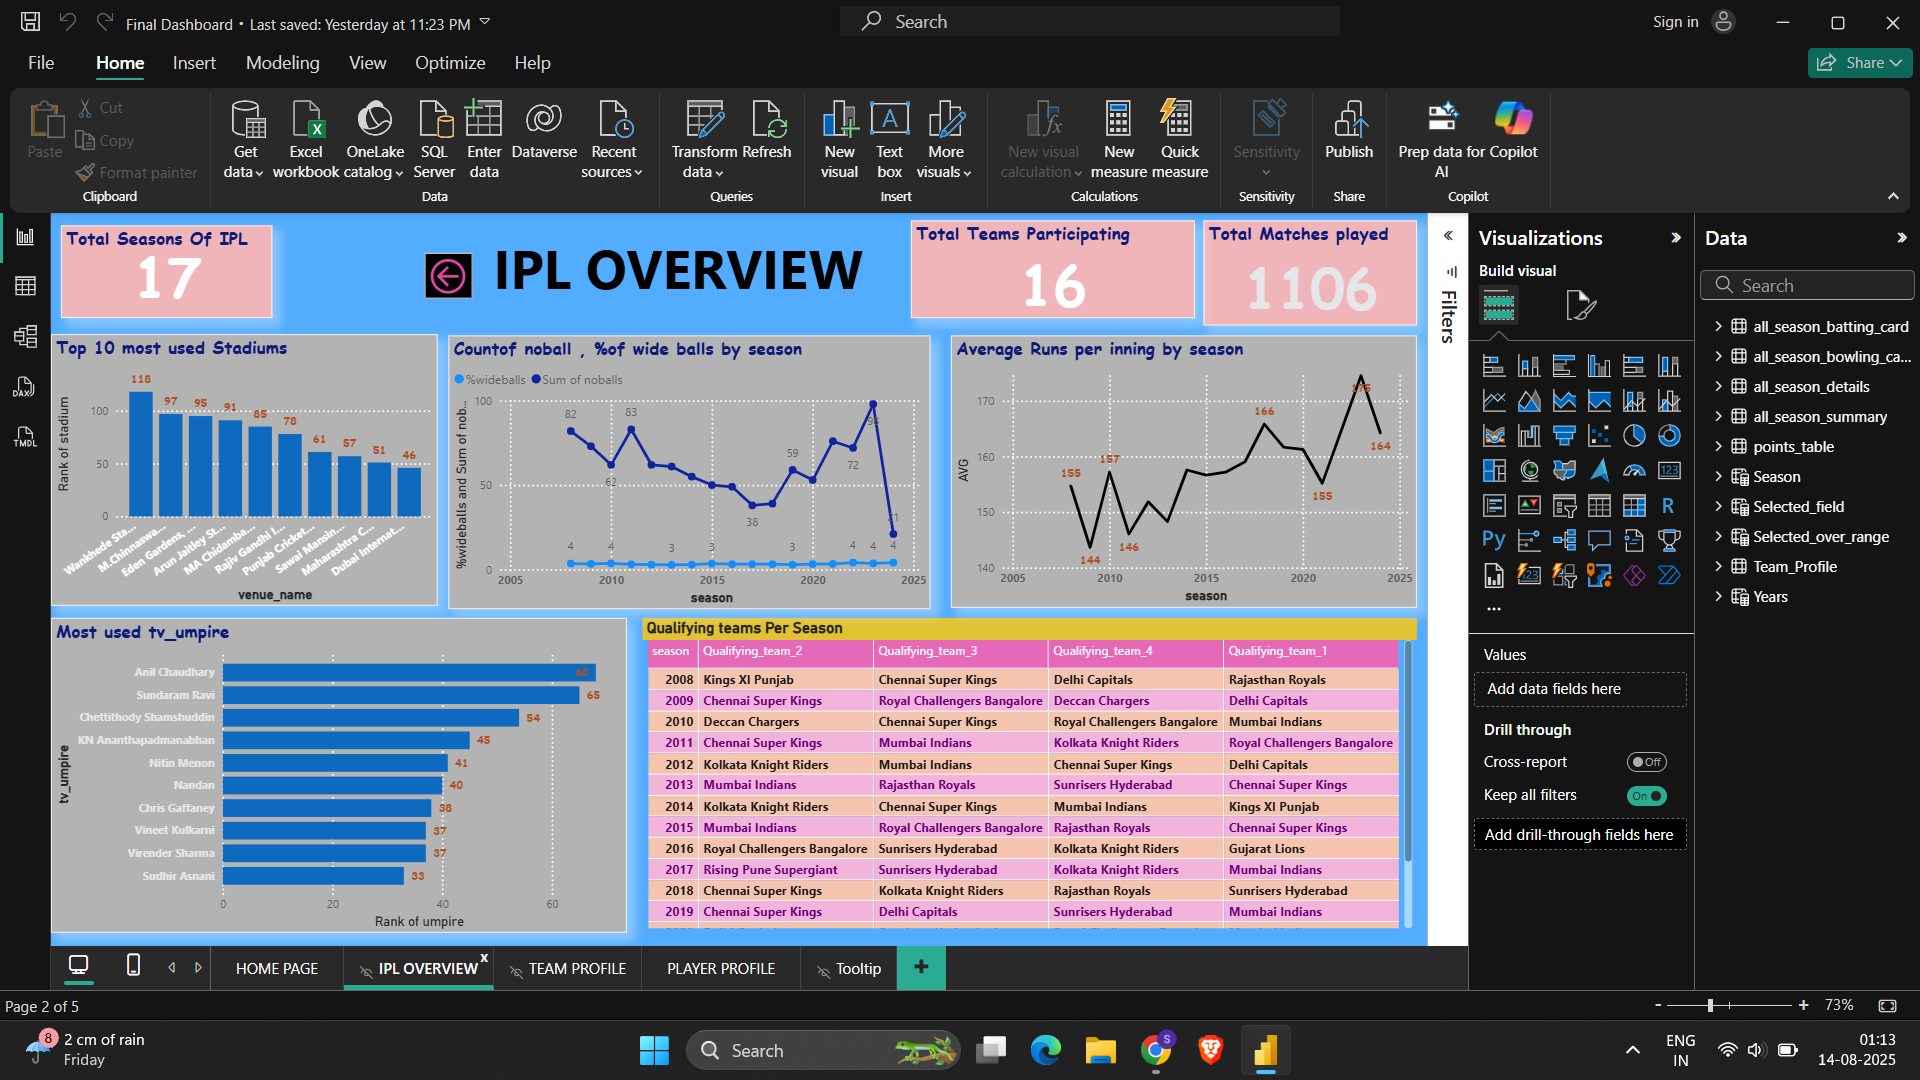

The dashboard page shown, as its layout file describes it:
{"tool":"powerbi","page":{"name":"IPL OVERVIEW","canvas":[1500,800],"ordinal":1},"visuals":[{"type":"textbox","box":[444.1,14.4,479,88.8],"z":0},{"type":"card","title":"Total Matches played","fields":{"Values":["all_season_summary.id"]},"box":[1256.8,8.4,232.9,114],"z":1000},{"type":"card","title":"Total Seasons Of IPL","fields":{"Values":["all_season_summary.season"]},"box":[10.7,14.2,230.8,100.6],"z":2000},{"type":"tableEx","title":"Qualifying teams Per Season","fields":{"Values":["points_table.season","points_table.Qualifying_team_2","points_table.Qualifying_team_3","points_table.Qualifying_team_4","points_table.Qualifying_team_1"]},"box":[644.6,441.7,845.1,343.3],"z":3000},{"type":"lineChart","title":"Average Runs per inning by season","fields":{"Category":["all_season_summary.season"],"Y":["all_season_summary.AVG"]},"box":[981.9,133.2,507.8,296.5],"z":4000},{"type":"clusteredColumnChart","title":"Top 10 most used Stadiums","fields":{"Category":["all_season_summary.venue_name"],"Y":["all_season_summary.Rank of stadium"]},"box":[0,132.5,421.3,295.9],"z":5000},{"type":"lineChart","title":"Countof noball , %of wide balls by season","fields":{"Category":["all_season_bowling_card.season"],"Y":["all_season_bowling_card.%wideballs","all_season_bowling_card.noballs"]},"box":[434.1,133.1,525.6,298.2],"z":6000},{"type":"barChart","title":"Most used tv_umpire","fields":{"Category":["all_season_summary.tv_umpire"],"Y":["all_season_summary.Rank of umpire"]},"box":[0,441.7,627.8,343.3],"z":7000},{"type":"actionButton","box":[408.1,43.2,51.6,49.2],"z":8000},{"type":"card","title":"Total Teams Participating","fields":{"Values":["points_table.name"]},"box":[937.5,8.3,309.3,106.8],"z":9001}]}

Visuals, with their boxes on the page's 1500x800 design canvas (x1, y1, x2, y2). These are canvas units, not pixel positions in the 1920x1080 screenshot, which may show the page scaled, cropped or inside an application window:
textbox: (444, 14, 923, 103)
"Total Matches played" card: (1257, 8, 1490, 122)
"Total Seasons Of IPL" card: (11, 14, 242, 115)
"Qualifying teams Per Season" tableEx: (645, 442, 1490, 785)
"Average Runs per inning by season" lineChart: (982, 133, 1490, 430)
"Top 10 most used Stadiums" clusteredColumnChart: (0, 132, 421, 428)
"Countof noball , %of wide balls by season" lineChart: (434, 133, 960, 431)
"Most used tv_umpire" barChart: (0, 442, 628, 785)
actionButton: (408, 43, 460, 92)
"Total Teams Participating" card: (938, 8, 1247, 115)
